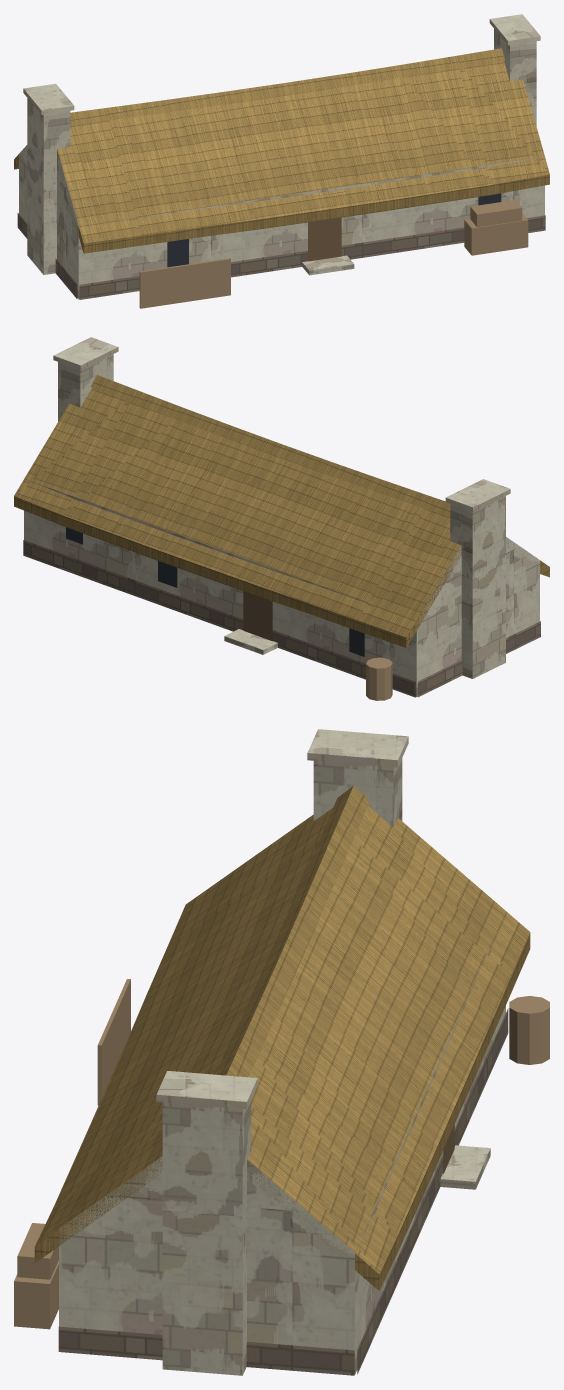
3 views of the same model, one above another, from view 1: azimuth 30°, elevation 25°; view 2: azimuth 150°, elevation 25°; view 3: azimuth 270°, elevation 25° (orthographic). The views are drawn at different scales.
Parts seen in each view (by area): view 1: b001081_thatch, b001081_wall, b001081_wood, b001081_base, b001081_oak, b001081_glass; view 2: b001081_thatch, b001081_wall, b001081_base, b001081_oak, b001081_wood, b001081_glass; view 3: b001081_thatch, b001081_wall, b001081_base, b001081_wood.
Boxes of the visible parts, <box> form: b001081_thatch: <box>14,48,549,253</box>; b001081_wall: <box>19,14,544,299</box>; b001081_wood: <box>139,200,528,308</box>; b001081_base: <box>17,213,545,299</box>; b001081_oak: <box>308,191,344,261</box>; b001081_glass: <box>167,193,501,267</box>; b001081_thatch: <box>14,375,549,647</box>; b001081_wall: <box>24,337,539,696</box>; b001081_base: <box>23,540,540,697</box>; b001081_oak: <box>243,591,272,641</box>; b001081_wood: <box>366,657,392,700</box>; b001081_glass: <box>66,527,364,656</box>; b001081_thatch: <box>34,785,530,1290</box>; b001081_wall: <box>59,729,505,1375</box>; b001081_base: <box>58,1008,508,1375</box>; b001081_wood: <box>14,979,549,1329</box>.
Size of the model in its own units: 13.25 by 4.58 by 8.05.
Materials: 6 (3 with a texture image).
